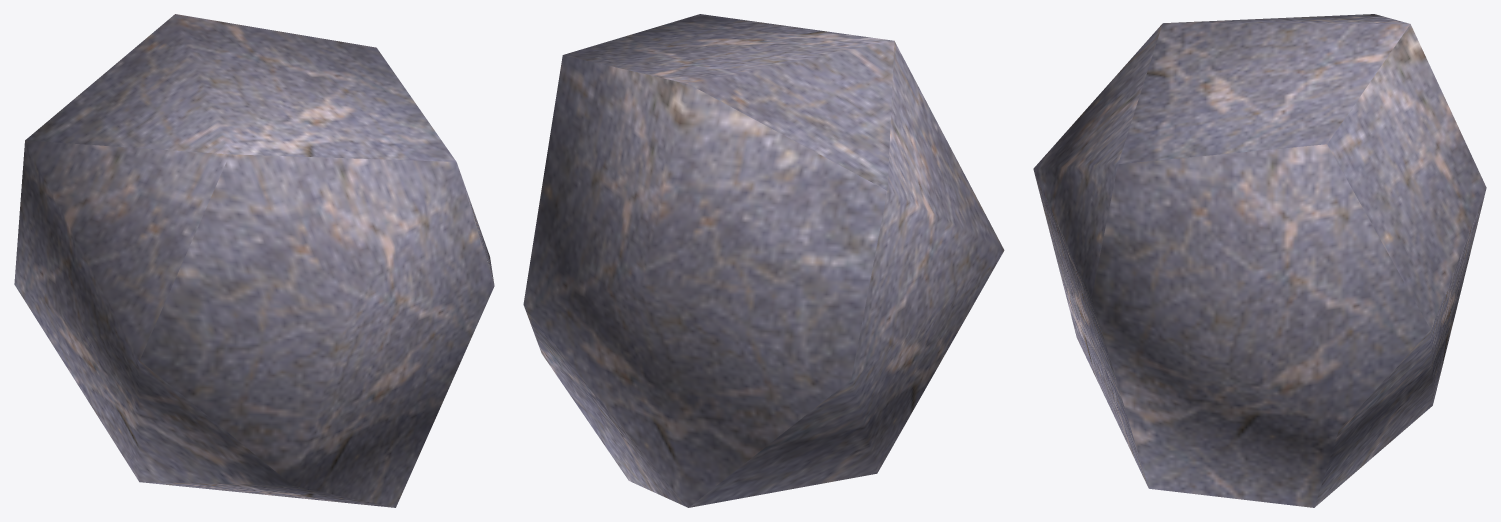
File: Type3_Rock_huge_3.fbx
The picture shows the model from 3 angles, left to right: view 1: azimuth 30°, elevation 25°; view 2: azimuth 150°, elevation 25°; view 3: azimuth 270°, elevation 25°; orthographic projection. The views are drawn at different scales.
Visible parts, largest first — view 1: Type3_Rock_huge_3; view 2: Type3_Rock_huge_3; view 3: Type3_Rock_huge_3.
Part boxes in pixels (x1,y1,x2,y2): Type3_Rock_huge_3: (14, 14, 494, 507); Type3_Rock_huge_3: (523, 14, 1004, 507); Type3_Rock_huge_3: (1033, 14, 1486, 507).
Size of the model in its own units: 2.79 by 3 by 2.85.
